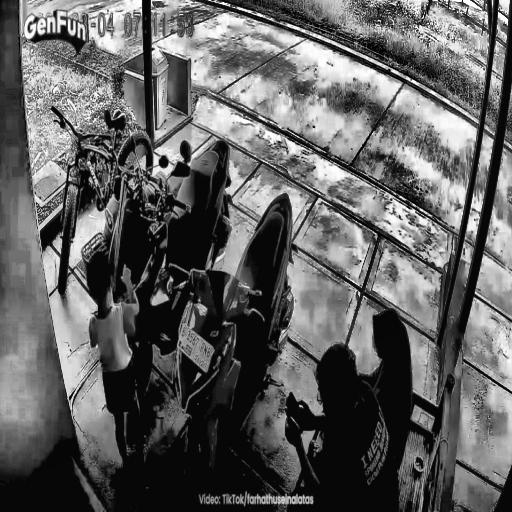aman: (178, 10, 476, 392), (458, 148, 512, 490)
